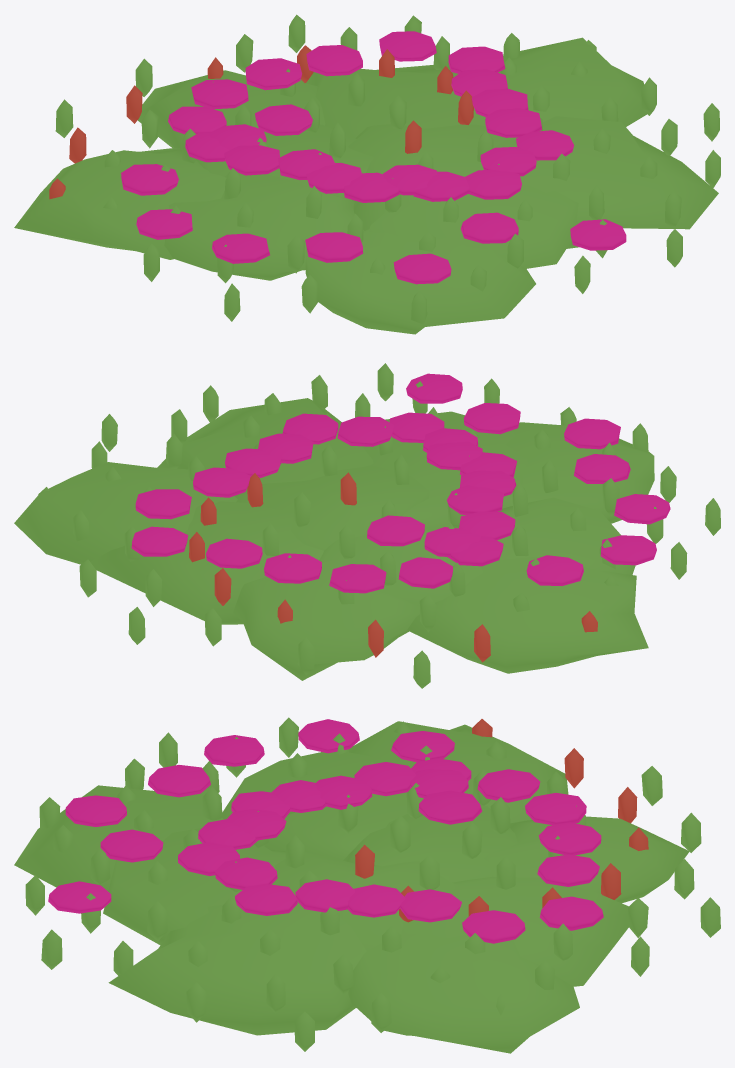
File: Blender_IcePlant_1.glb
3 renders of one model, top to bottom at view 1: azimuth 30°, elevation 25°; view 2: azimuth 150°, elevation 25°; view 3: azimuth 270°, elevation 25°, orthographic. The views are drawn at different scales.
Parts seen in each view (by area): view 1: Blender_IcePlant_1; view 2: Blender_IcePlant_1; view 3: Blender_IcePlant_1.
Boxes of the visible parts, <box> form: Blender_IcePlant_1: <box>14,14,720,334</box>; Blender_IcePlant_1: <box>14,363,720,688</box>; Blender_IcePlant_1: <box>14,717,720,1053</box>.
Size of the model in its own units: 2.37 by 0.3226 by 2.2.
